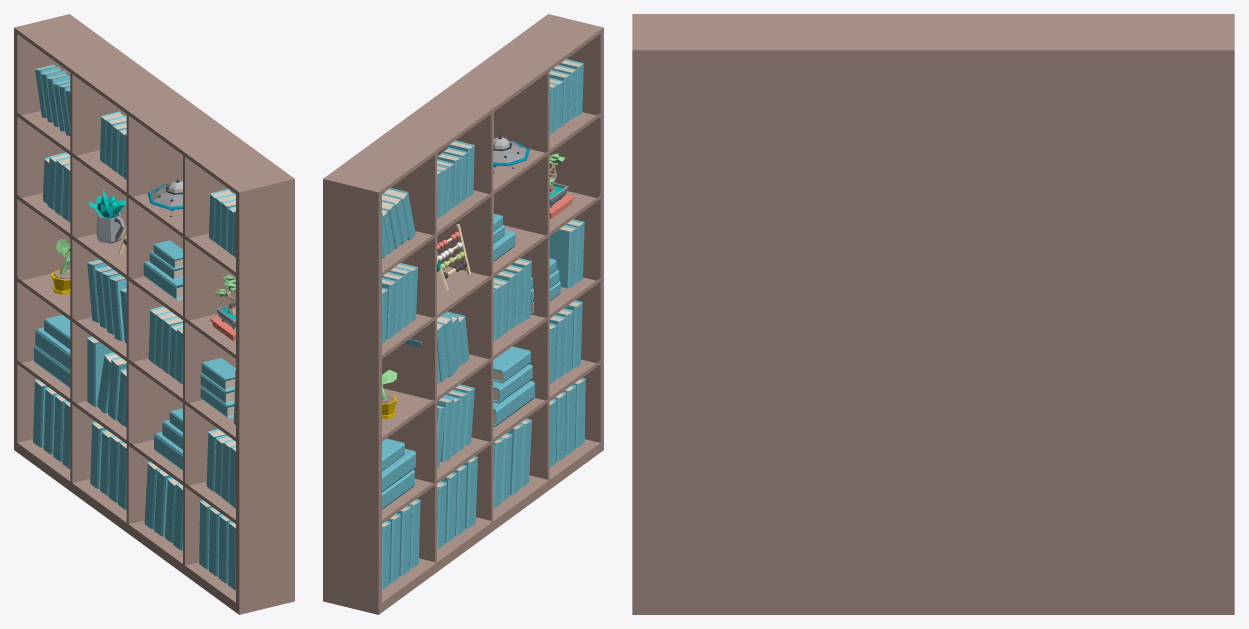
File: bookcase-draco.gltf
The picture shows the model from 3 angles, left to right: view 1: azimuth 30°, elevation 25°; view 2: azimuth 150°, elevation 25°; view 3: azimuth 270°, elevation 25°; orthographic projection. The views are drawn at different scales.
Parts seen in each view (by area): view 1: bookcase_structure.001, shelf_plant.001, book.1.1.0, bonsai.001, flying_saucer.001, book.3.2.2, book.0.1.1, book.2.3.0, book.0.0.0, book.2.0.1, shelf_plant_2.001, book.1.2.3 (+46 smaller); view 2: bookcase_structure.001, book.3.2.3, book.2.1.2, abbicus.001, book.2.1.0, bonsai.001, flying_saucer.001, book.1.0.4, book.2.0.3, book.2.1.1, book.0.1.1, book.0.0.3 (+48 smaller); view 3: bookcase_structure.001.
Boxes of the visible parts, x1,y1,x2,y2 form: bookcase_structure.001: (14,14,294,614); shelf_plant.001: (88,189,125,243); book.1.1.0: (87,336,113,406); bonsai.001: (210,275,235,341); flying_saucer.001: (147,178,182,216); book.3.2.2: (201,358,235,390); book.0.1.1: (35,327,70,370); book.2.3.0: (143,261,182,300); book.0.0.0: (33,379,48,447); book.2.0.1: (154,468,171,536); shelf_plant_2.001: (50,238,70,294); book.1.2.3: (109,275,126,340); bookcase_structure.001: (323,14,603,614); book.3.2.3: (549,224,576,288); book.2.1.2: (493,346,530,383); abbicus.001: (437,224,470,290); book.2.1.0: (493,380,534,426); bonsai.001: (549,153,574,218); flying_saucer.001: (493,134,529,173); book.1.0.4: (463,456,477,528); book.2.0.3: (507,423,523,495); book.2.1.1: (493,364,532,403); book.0.1.1: (382,448,415,492); book.0.0.3: (397,505,411,576); bookcase_structure.001: (632,14,1234,614).
Bounding box in the file's own units: 3.03 × 19.82 × 19.15.
